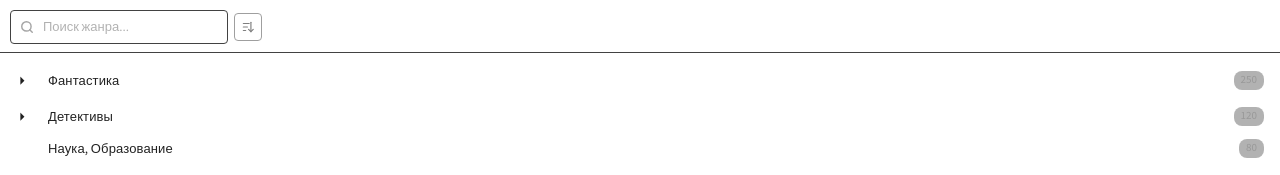
Test: GenresTab › shows empty message when search has no matches
Type "несуществующий_жанр_xyz" into the field with placeholder "Поиск жанра...". click: (119, 27)
box: x1=10 y1=10 x2=228 y2=44
Wait 300 ms
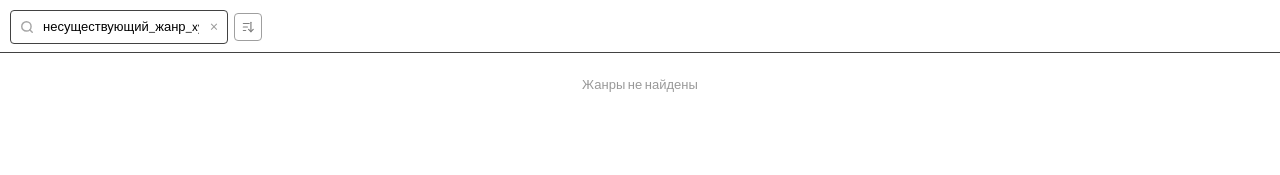
expect the text "Жанры не найдены" is shown: met, box x1=582 y1=76 x2=698 y2=92
